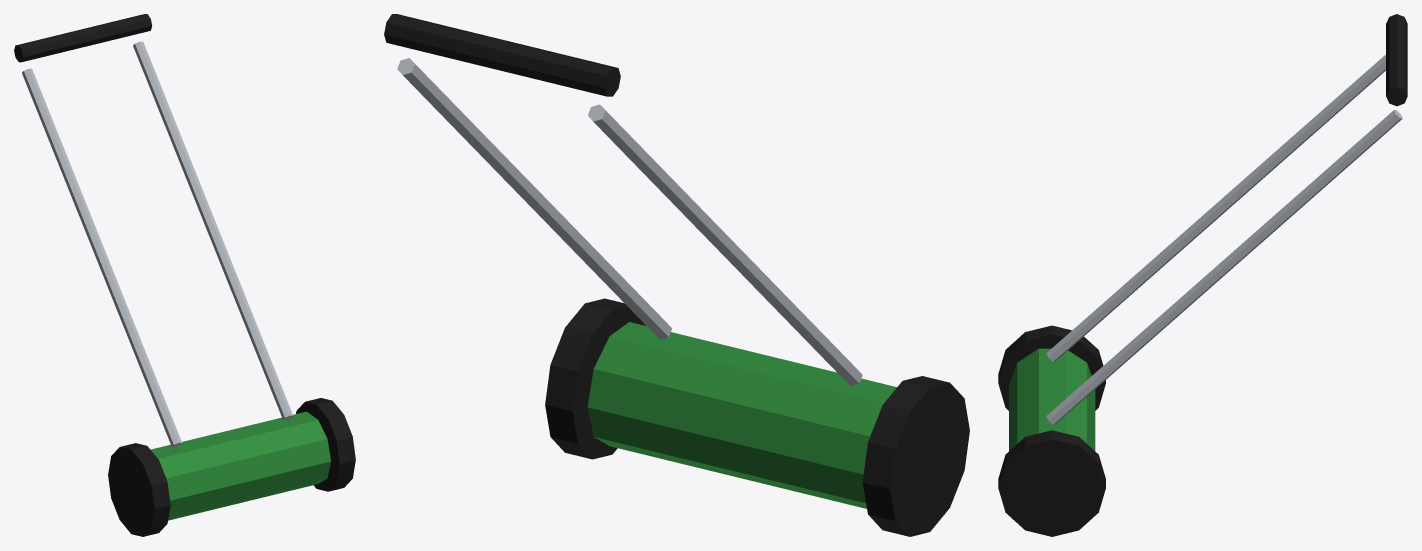
The model's file is hand_mower.glb.
3 views of the same model, side by side, from view 1: azimuth 30°, elevation 25°; view 2: azimuth 150°, elevation 25°; view 3: azimuth 270°, elevation 25° (orthographic). The views are drawn at different scales.
Visible parts, largest first — view 1: reel_mower_green, arm_mower_steel, wheel_mower_black, grip_mower_black; view 2: reel_mower_green, wheel_mower_black, arm_mower_steel, grip_mower_black; view 3: arm_mower_steel, wheel_mower_black, reel_mower_green, grip_mower_black.
Boxes of the visible parts, bbox=[...] form: reel_mower_green: bbox=[151, 411, 330, 520]; arm_mower_steel: bbox=[22, 41, 293, 447]; wheel_mower_black: bbox=[108, 398, 355, 536]; grip_mower_black: bbox=[14, 14, 152, 62]; reel_mower_green: bbox=[587, 322, 896, 508]; wheel_mower_black: bbox=[545, 298, 969, 536]; arm_mower_steel: bbox=[397, 58, 862, 386]; grip_mower_black: bbox=[384, 14, 620, 96]; arm_mower_steel: bbox=[1046, 54, 1402, 424]; wheel_mower_black: bbox=[998, 325, 1105, 536]; reel_mower_green: bbox=[1009, 348, 1095, 450]; grip_mower_black: bbox=[1386, 14, 1407, 106].
Bounding box in the file's own units: 0.5 × 0.88 × 0.76.
